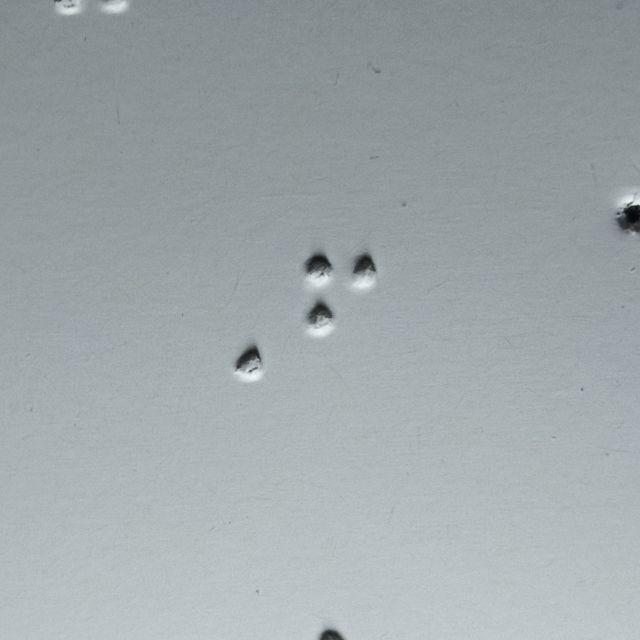F: (301, 254, 381, 377)
capital: (183, 258, 270, 384)
